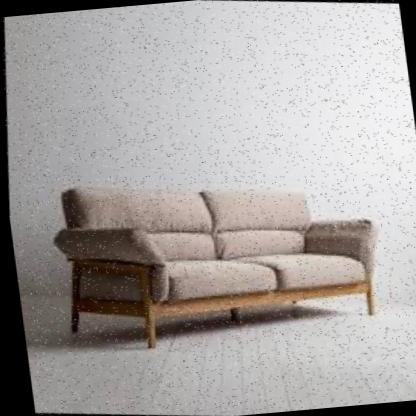Sofa: (18, 132, 416, 380)
